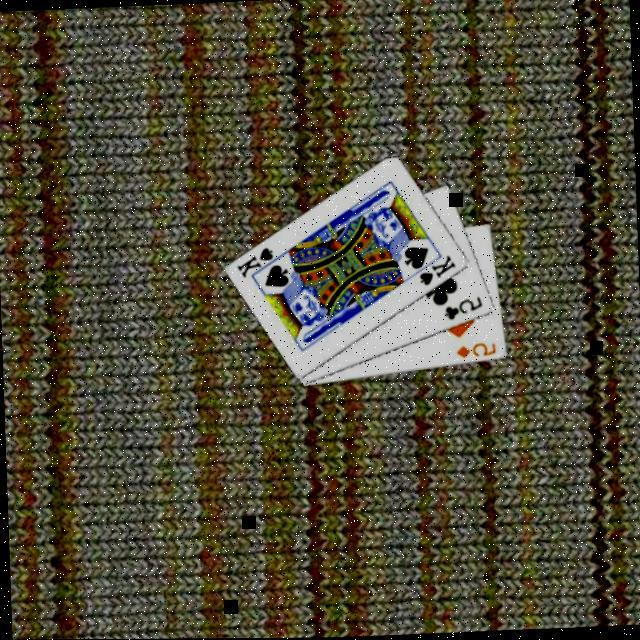5C: (438, 293, 484, 323)
5D: (451, 338, 496, 360)
KS: (231, 242, 282, 280), (413, 252, 458, 288)
